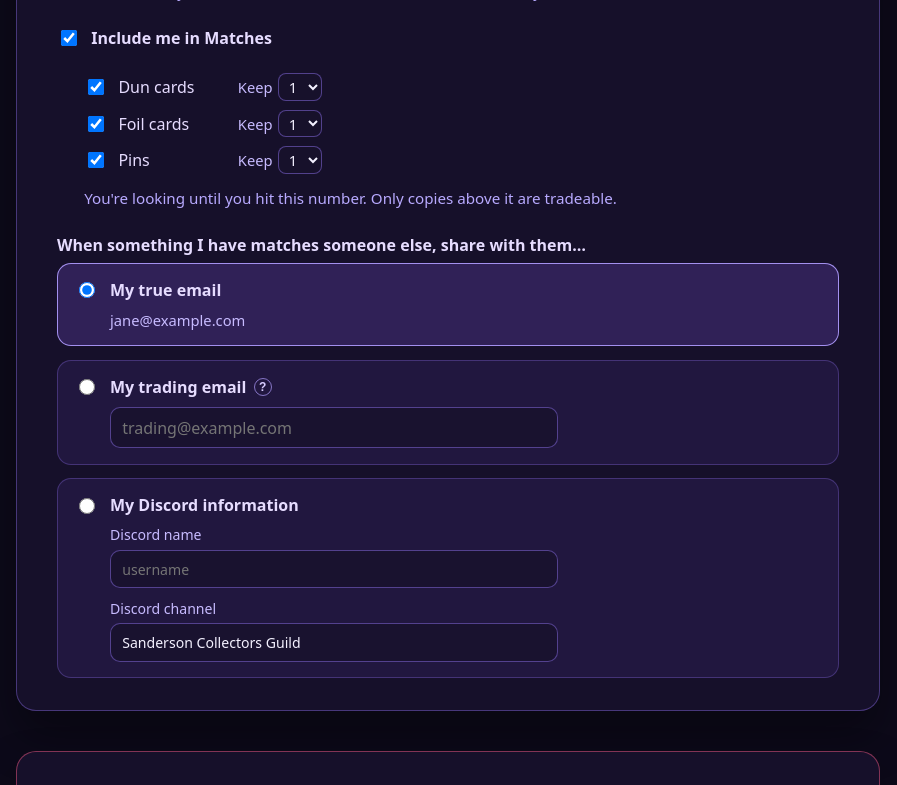
Test: AccountPage › blocks selecting trading email or discord when those fields are empty
The width and height of the screenshot is (897, 785).
(page scrolled)
Click the radio button labelled "My trading email": (87, 387) [79,379,95,395]
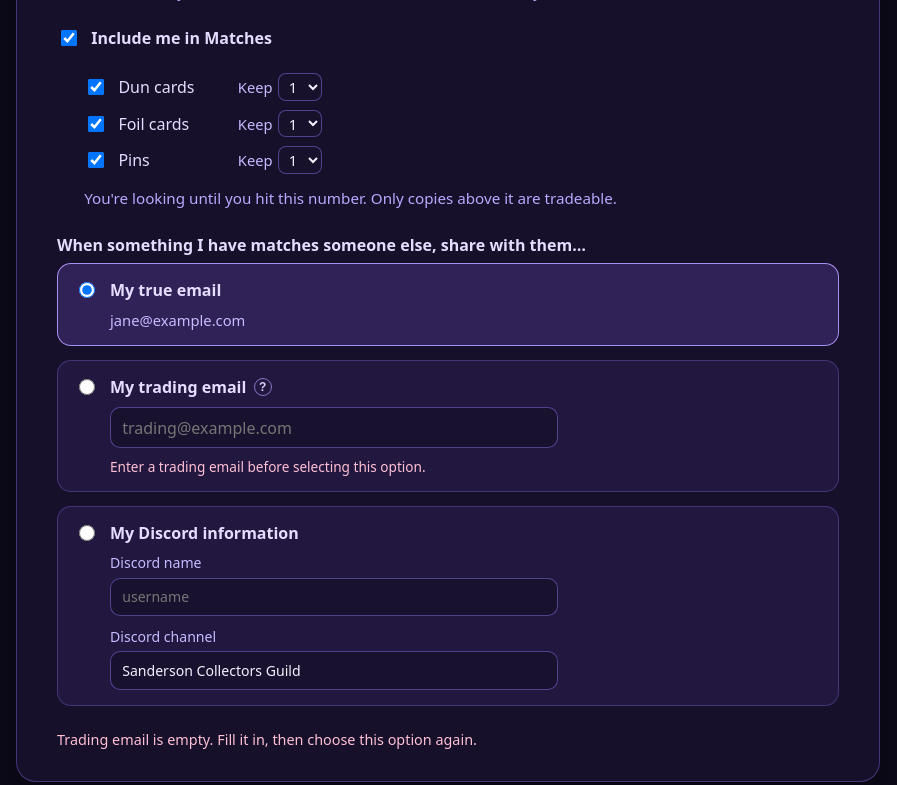
Expected: the radio button labelled "My true email" is checked, [79,282,95,298]
Expected: the text "Trading email is empty. Fill it in, then choose this option again." is shown, [57,730,477,749]
Expected: the text "Enter a trading email before selecting this option." is shown, [110,457,426,476]
Click the radio button labelled "My Discord information": (87, 533) [79,525,95,541]
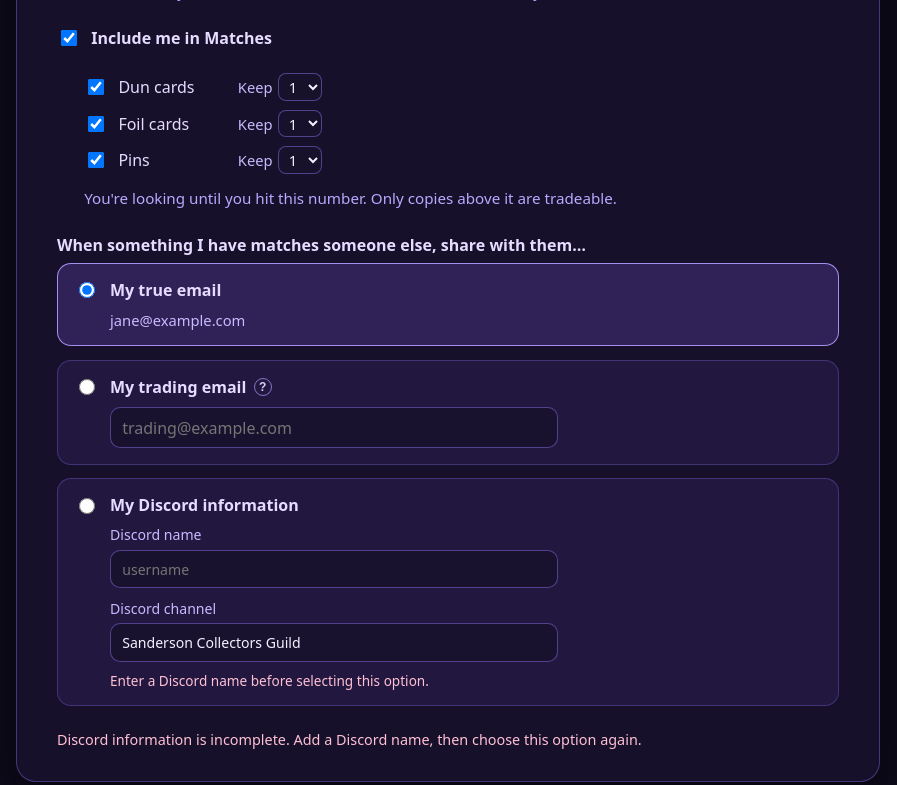
Expected: the radio button labelled "My true email" is checked, [79,282,95,298]
Expected: the text "Discord information is incomplete. Add a Discord name, then choose this option again." is shown, [57,730,642,749]
Expected: the text "Enter a Discord name before selecting this option." is shown, [110,671,429,690]
